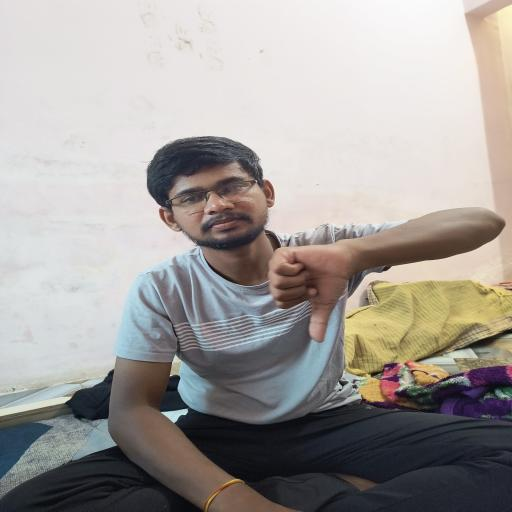Continue: (262, 242, 368, 348)
